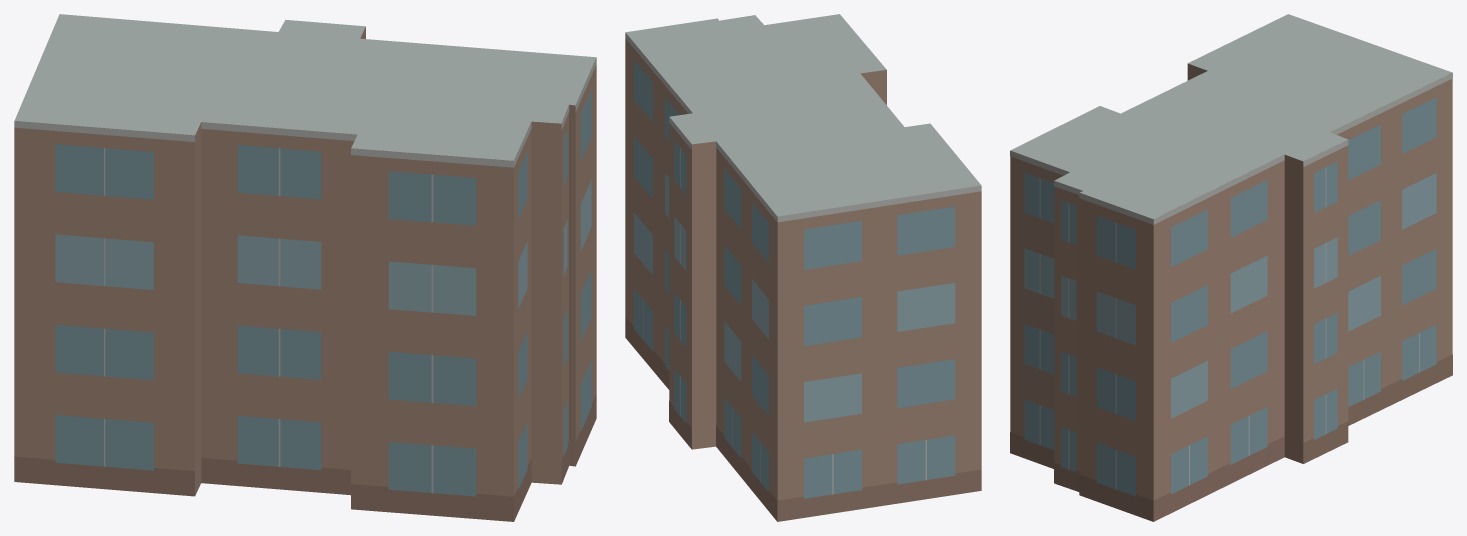
Rendered from survey-upis-32706345.glb.
3 views of the same model, side by side, from view 1: azimuth 30°, elevation 25°; view 2: azimuth 150°, elevation 25°; view 3: azimuth 270°, elevation 25° (orthographic). The views are drawn at different scales.
Visible parts, largest first — view 1: survey-upis-32706345.tmp; view 2: survey-upis-32706345.tmp; view 3: survey-upis-32706345.tmp.
Part boxes in pixels (x1,y1,x2,y2): survey-upis-32706345.tmp: (14,14,596,521); survey-upis-32706345.tmp: (625,14,981,521); survey-upis-32706345.tmp: (1010,14,1452,521).
Bounding box in the file's own units: 18.77 × 12.9 × 17.11.
